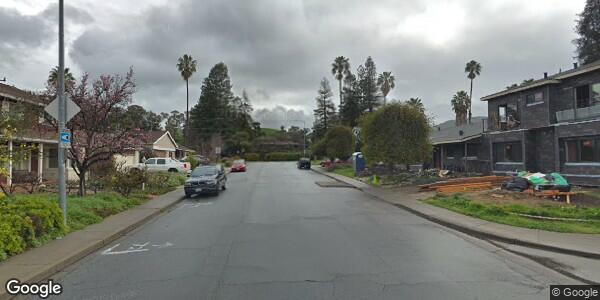Steel_Pole: (55, 1, 72, 224)
